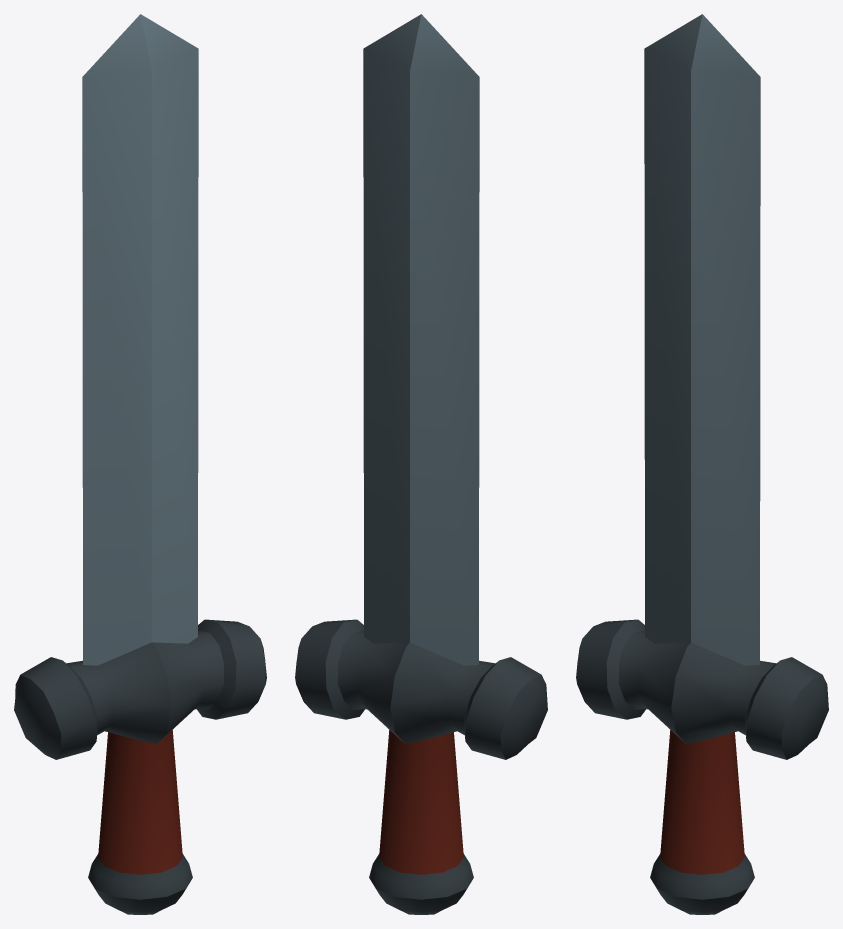
File: sword_uncommon.obj
The picture shows the model from 3 angles, left to right: view 1: azimuth 30°, elevation 25°; view 2: azimuth 150°, elevation 25°; view 3: azimuth 330°, elevation 25°; orthographic projection.
Visible parts, largest first — view 1: sword_uncommon_Cube.3838; view 2: sword_uncommon_Cube.3838; view 3: sword_uncommon_Cube.3838.
Part boxes in pixels (x1,y1,x2,y2): sword_uncommon_Cube.3838: (14, 14, 266, 914); sword_uncommon_Cube.3838: (295, 14, 547, 914); sword_uncommon_Cube.3838: (576, 14, 828, 914).
Bounding box in the file's own units: 0.4102 × 1.51 × 0.1914.
